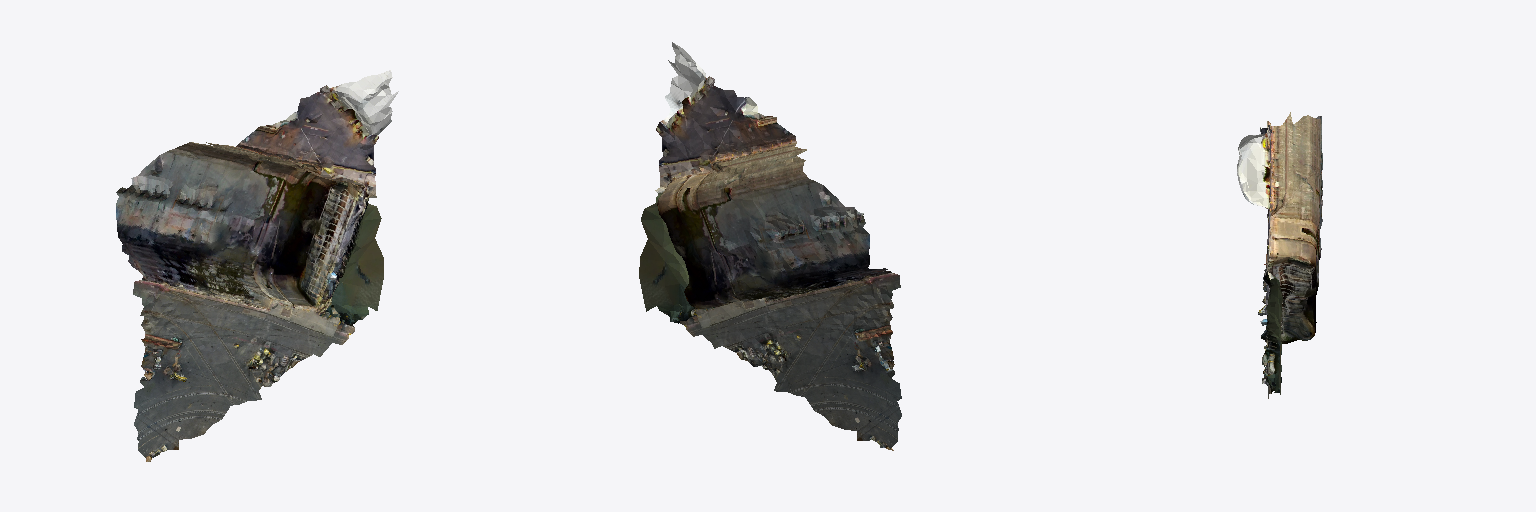
3 views of the same model, side by side, from view 1: azimuth 30°, elevation 25°; view 2: azimuth 150°, elevation 25°; view 3: azimuth 270°, elevation 25° (orthographic).
Size of the model in its own units: 70.41 by 90.21 by 20.5.
1 materials, 1 textured.